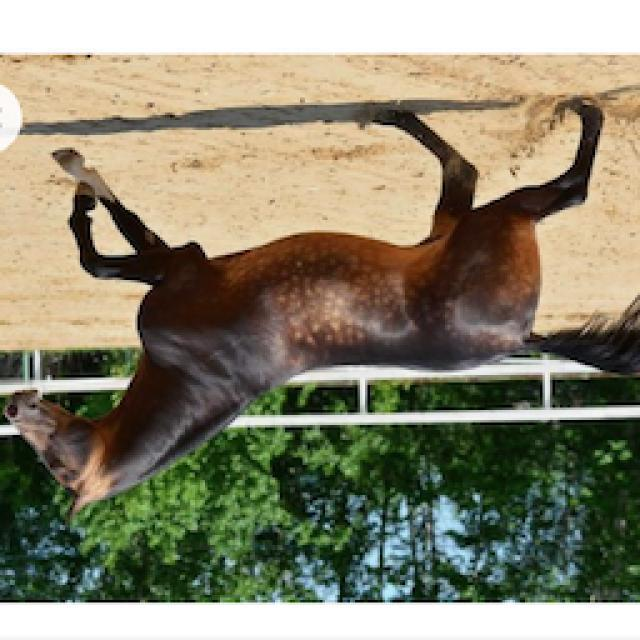Horse: (2, 95, 640, 528)
